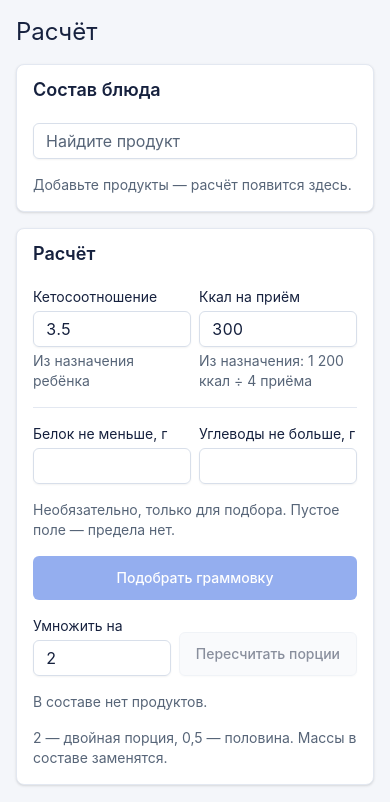
калькулятор в Mini App › расхождение с целью — строка рядом с числами, а не тревога
The image size is (390, 802).
Type "масло" into the search field labelled "Найдите продукт" at (195, 141), box [33, 123, 357, 159]
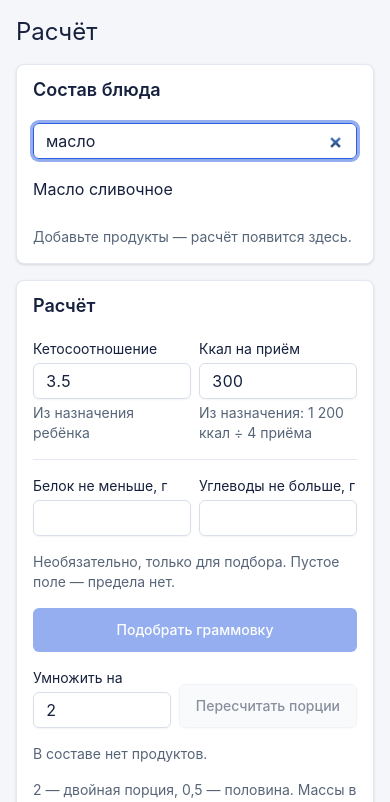
Click the button "Масло сливочное" at (103, 189), box [33, 167, 357, 211]
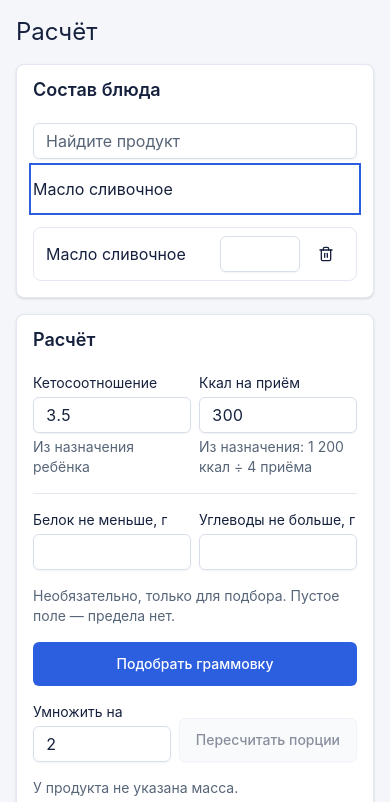
Type "30" into the field named "Масло сливочное, граммы" at (260, 254), box [220, 236, 300, 272]
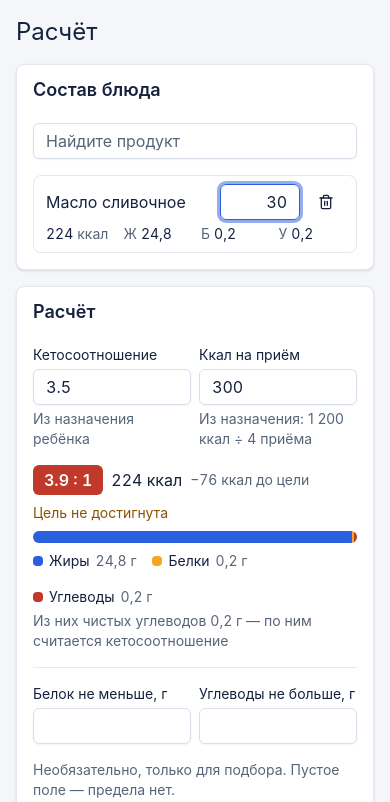
Check: the text "Цель не достигнута" is shown, box [33, 504, 168, 521]
Check: the text "−76 ккал до цели" is shown, box [190, 470, 309, 490]
